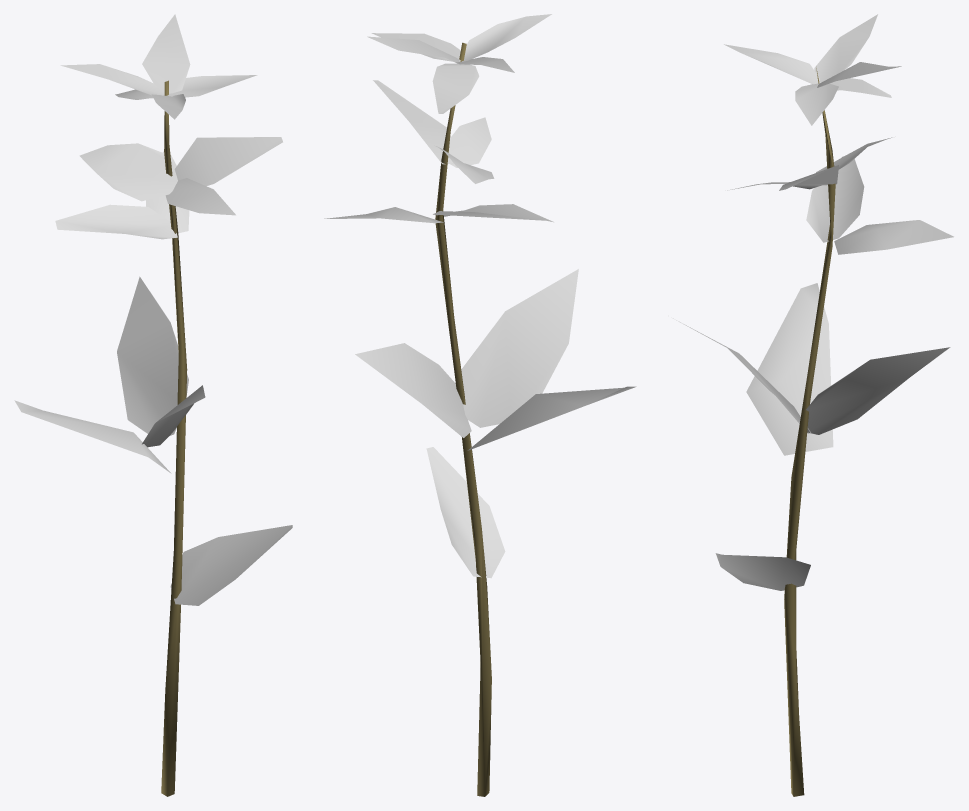
Rendered from BushStem_01.fbx.
The picture shows the model from 3 angles, left to right: view 1: azimuth 30°, elevation 25°; view 2: azimuth 150°, elevation 25°; view 3: azimuth 270°, elevation 25°; orthographic projection. The views are drawn at different scales.
Parts seen in each view (by area): view 1: Simple_Leaf_01.004, Berry Stem 01.Decimated; view 2: Simple_Leaf_01.004, Berry Stem 01.Decimated; view 3: Simple_Leaf_01.004, Berry Stem 01.Decimated.
Part boxes in pixels (x1,y1,x2,y2): Simple_Leaf_01.004: [14, 14, 292, 605]; Berry Stem 01.Decimated: [161, 80, 187, 796]; Simple_Leaf_01.004: [324, 14, 636, 578]; Berry Stem 01.Decimated: [435, 42, 491, 796]; Simple_Leaf_01.004: [673, 14, 953, 590]; Berry Stem 01.Decimated: [784, 68, 835, 796].
Size of the model in its own units: 0.7538 by 2.08 by 0.7182.
